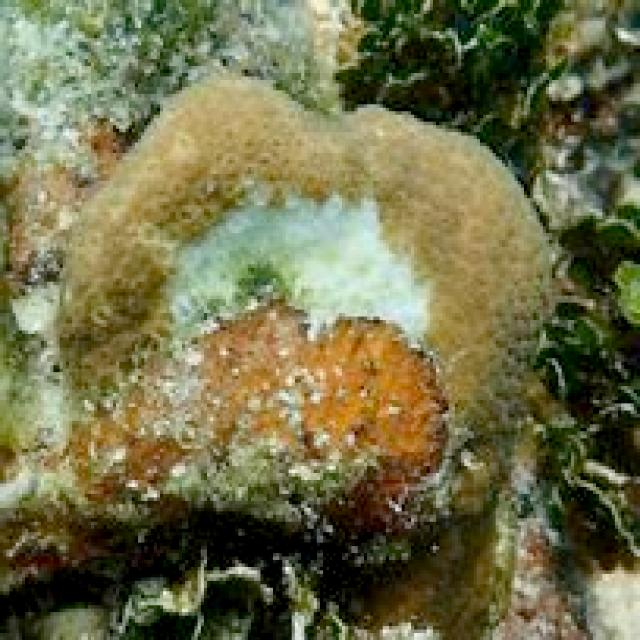Coral: (57, 75, 552, 564)
